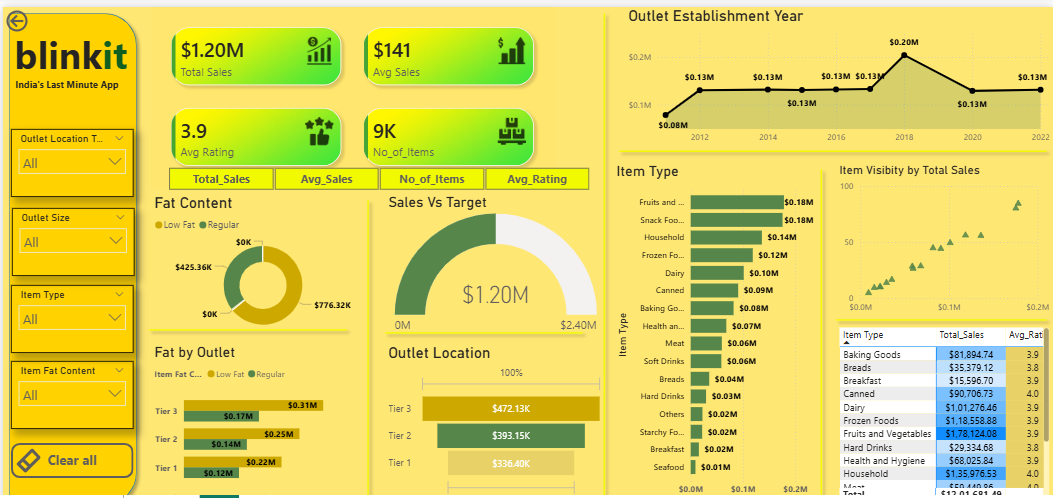

What the dashboard file says about the page in this screenshot:
{"tool":"powerbi","page":{"name":"Page 1","canvas":[1500,720],"ordinal":0},"visuals":[{"type":"shape","box":[0,0,200,720],"z":0},{"type":"textbox","box":[11.7,25,200,85],"z":1},{"type":"textbox","box":[13.3,96.7,173.3,26.7],"z":2},{"type":"cardVisual","fields":{"Data":["BlinkIT Grocery Data.Total_Sales","BlinkIT Grocery Data.Avg_Sales","BlinkIT Grocery Data.Avg_Rating","BlinkIT Grocery Data.No_of_Items"]},"box":[211.7,0,576.7,256.7],"z":3},{"type":"donutChart","title":"Fat Content","fields":{"Category":["Items Content.Item Fat Content"],"Y":["BlinkIT Grocery Data.Total_Sales","BlinkIT Grocery Data.Avg_Sales","BlinkIT Grocery Data.No_of_Items","BlinkIT Grocery Data.Avg_Rating"]},"box":[211.7,266.7,320,208.3],"z":5},{"type":"gauge","title":"Sales Vs Target","fields":{"MinValue":["BlinkIT Grocery Data.Min Sales"],"Y":["BlinkIT Grocery Data.Total_Sales"]},"box":[545,266.7,316.7,208.3],"z":6},{"type":"clusteredBarChart","title":"Fat by Outlet","fields":{"Category":["Outlet Location.Outlet Location Type"],"Y":["BlinkIT Grocery Data.Total_Sales"],"Series":["Items Content.Item Fat Content"]},"box":[211.7,481.7,320,238.3],"z":7},{"type":"slicer","fields":{"Values":["Metrics 2.Metrics"]},"box":[211.7,223.3,650,40],"z":8},{"type":"funnel","title":"Outlet Location","fields":{"Category":["Outlet Location.Outlet Location Type"],"Y":["BlinkIT Grocery Data.Total_Sales"]},"box":[545,481.7,316.7,238.3],"z":9},{"type":"barChart","title":"Item Type","fields":{"Category":["Items.Item Type"],"Y":["BlinkIT Grocery Data.Total_Sales"]},"box":[871.7,223.3,310,496.7],"z":10},{"type":"scatterChart","title":"Item Visibity by Total Sales","fields":{"Category":["Items.Item Type"],"X":["BlinkIT Grocery Data.Total_Sales"],"Y":["Sum(BlinkIT Grocery Data.Item Visibility)"]},"box":[1190,223.3,310,223.3],"z":11},{"type":"pivotTable","fields":{"Values":["BlinkIT Grocery Data.Total_Sales","BlinkIT Grocery Data.Avg_Rating"],"Rows":["Items.Item Type"]},"box":[1190,453.3,310,266.7],"z":12},{"type":"actionButton","box":[0,0,100,40],"z":13},{"type":"lineChart","title":"Outlet Establishment Year","fields":{"Category":["Outlet Info.Outlet Establishment Year"],"Y":["BlinkIT Grocery Data.Total_Sales"]},"box":[888.3,0,611.7,203.3],"z":14},{"type":"shape","box":[200,446.7,300,28.3],"z":15},{"type":"shape","box":[505,266.7,31.7,453.3],"z":16},{"type":"shape","box":[536.7,451.7,300,28.3],"z":17},{"type":"shape","box":[845,0,26.7,720],"z":18},{"type":"shape","box":[1155,223.3,26.7,496.7],"z":19},{"type":"shape","box":[871.7,188.3,628.3,35],"z":20},{"type":"shape","box":[1181.7,433.3,318.3,28.3],"z":21},{"type":"slicer","fields":{"Values":["Outlet Location.Outlet Location Type"]},"box":[11.7,175,175,96.7],"z":22},{"type":"slicer","fields":{"Values":["Outlet Info.Outlet Size"]},"box":[13.3,286.7,175,96.7],"z":23},{"type":"slicer","fields":{"Values":["Items.Item Type"]},"box":[11.7,396.7,175,96.7],"z":24},{"type":"slicer","fields":{"Values":["Items Content.Item Fat Content"]},"box":[11.7,505,175,96.7],"z":25},{"type":"actionButton","box":[11.7,623.3,175,50],"z":26}]}

Visuals, with their boxes in screenshot pixels (x1, y1, x2, y2), scaled from the page's 1500x720 canvas onto the 1053x498 screenshot:
shape: bbox=[0, 0, 140, 497]
textbox: bbox=[8, 17, 149, 76]
textbox: bbox=[9, 67, 131, 85]
cardVisual - BlinkIT Grocery Data.Total_Sales x BlinkIT Grocery Data.Avg_Sales: bbox=[149, 0, 553, 178]
"Fat Content" donutChart: bbox=[149, 184, 373, 329]
"Sales Vs Target" gauge: bbox=[383, 184, 605, 329]
"Fat by Outlet" clusteredBarChart: bbox=[149, 333, 373, 497]
slicer - Metrics 2.Metrics: bbox=[149, 154, 605, 182]
"Outlet Location" funnel: bbox=[383, 333, 605, 497]
"Item Type" barChart: bbox=[612, 154, 830, 497]
"Item Visibity by Total Sales" scatterChart: bbox=[835, 154, 1052, 309]
pivotTable - BlinkIT Grocery Data.Total_Sales x BlinkIT Grocery Data.Avg_Rating: bbox=[835, 314, 1052, 497]
actionButton: bbox=[0, 0, 70, 28]
"Outlet Establishment Year" lineChart: bbox=[624, 0, 1052, 141]
shape: bbox=[140, 309, 351, 329]
shape: bbox=[355, 184, 377, 497]
shape: bbox=[377, 312, 587, 332]
shape: bbox=[593, 0, 612, 497]
shape: bbox=[811, 154, 830, 497]
shape: bbox=[612, 130, 1052, 154]
shape: bbox=[830, 300, 1052, 319]
slicer - Outlet Location.Outlet Location Type: bbox=[8, 121, 131, 188]
slicer - Outlet Info.Outlet Size: bbox=[9, 198, 132, 265]
slicer - Items.Item Type: bbox=[8, 274, 131, 341]
slicer - Items Content.Item Fat Content: bbox=[8, 349, 131, 416]
actionButton: bbox=[8, 431, 131, 466]
